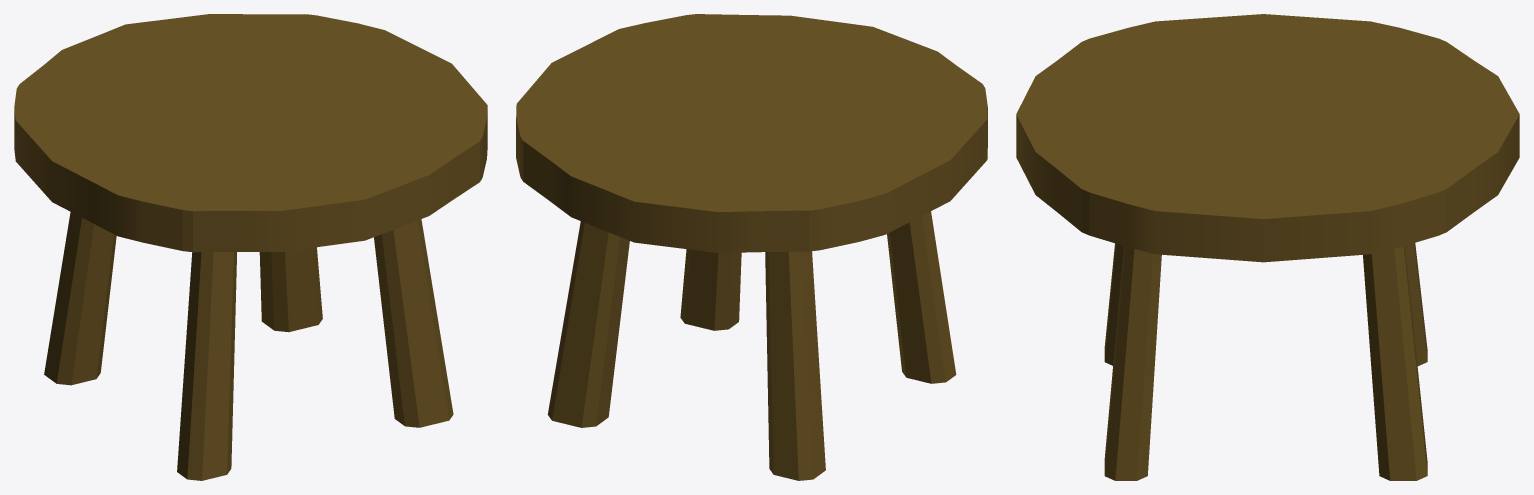
File: Stool.fbx
The picture shows the model from 3 angles, left to right: view 1: azimuth 30°, elevation 25°; view 2: azimuth 150°, elevation 25°; view 3: azimuth 270°, elevation 25°; orthographic projection. The views are drawn at different scales.
Parts seen in each view (by area): view 1: pCube88; view 2: pCube88; view 3: pCube88.
Boxes of the visible parts, <box> form: pCube88: <box>14,14,487,480</box>; pCube88: <box>516,14,987,480</box>; pCube88: <box>1016,14,1519,480</box>.
Size of the model in its own units: 0.9316 by 0.6291 by 0.9662.
